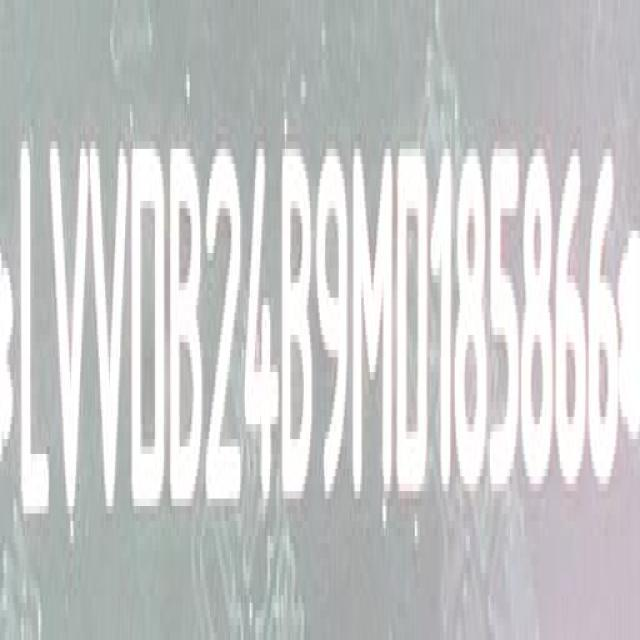1: (431, 146, 456, 507)
2: (203, 124, 241, 502)
4: (243, 135, 280, 502)
5: (488, 130, 520, 502)
6: (586, 140, 620, 493), (553, 149, 588, 482)
8: (455, 146, 488, 504), (522, 146, 554, 496)
9: (314, 143, 349, 499)
B: (168, 140, 203, 502), (278, 135, 312, 504)
D: (394, 127, 432, 490), (130, 132, 165, 504)
L: (19, 132, 49, 516)
M: (351, 127, 394, 490)
V: (50, 132, 90, 521), (88, 130, 128, 518)
